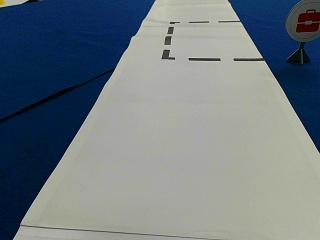company: (285, 0, 320, 40)
